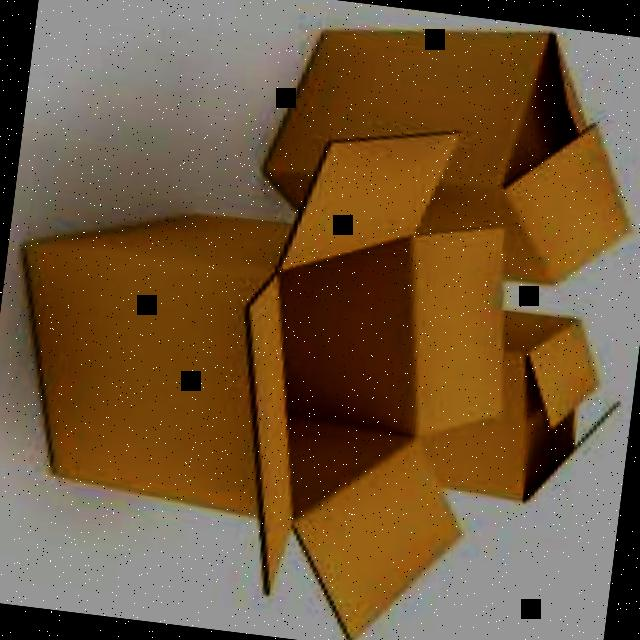cardboard_box: (0, 175, 474, 627), (243, 5, 640, 293), (341, 277, 603, 531)
